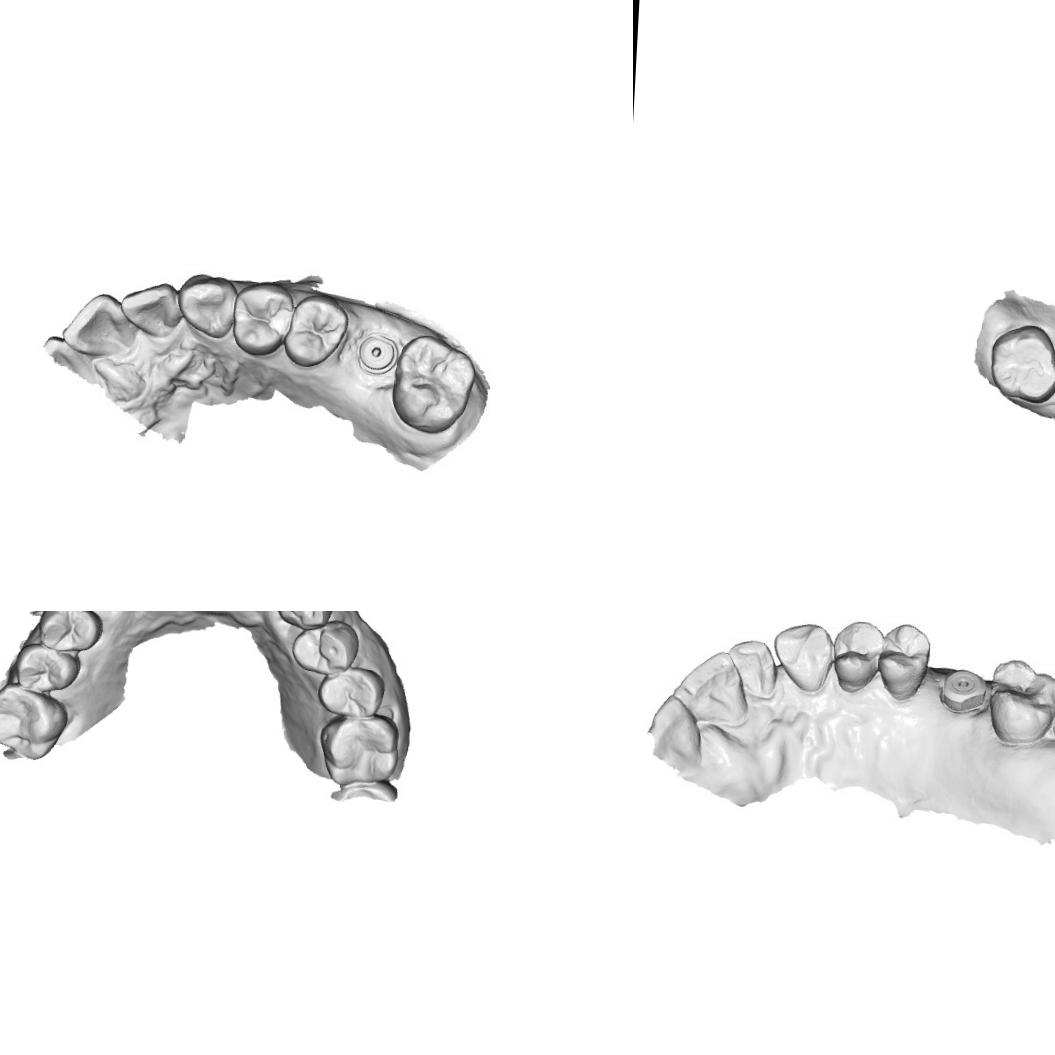canine: (774, 620, 834, 692), (176, 271, 238, 339), (274, 611, 338, 631)
implant: (939, 664, 988, 710), (356, 327, 399, 378)
incisor: (670, 650, 750, 726), (58, 289, 136, 359), (118, 281, 180, 335), (729, 638, 779, 702)
molar: (392, 325, 475, 432), (315, 712, 400, 788), (986, 320, 1055, 405), (0, 679, 69, 762), (990, 660, 1055, 746)
premolar: (282, 291, 350, 369), (229, 279, 296, 358), (288, 617, 361, 677), (878, 623, 931, 700), (316, 663, 386, 720), (832, 617, 884, 690), (13, 641, 81, 694), (35, 611, 105, 652)
